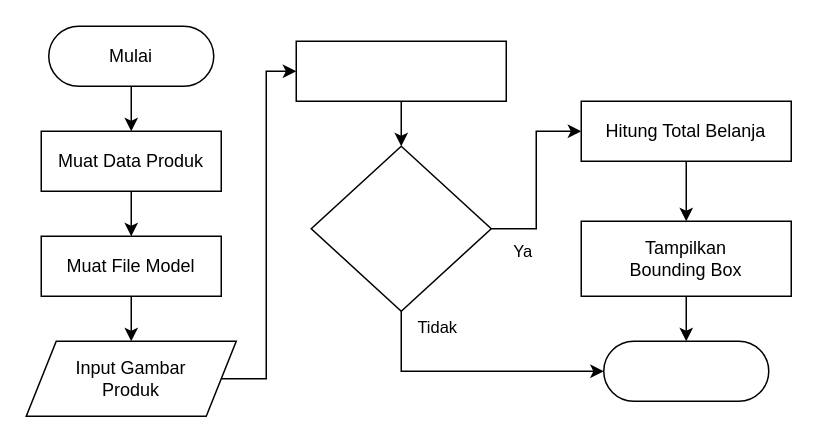
Image size: 818x443. Some labels were removed from this diagram. Here are the shapes that lost their labels. From the top down, the centre of each, then its label:
(x=400, y=70): Proses Deteksi Objek
(x=400, y=228): Terdeteksi Objek Produk
(x=685, y=370): Selesai
